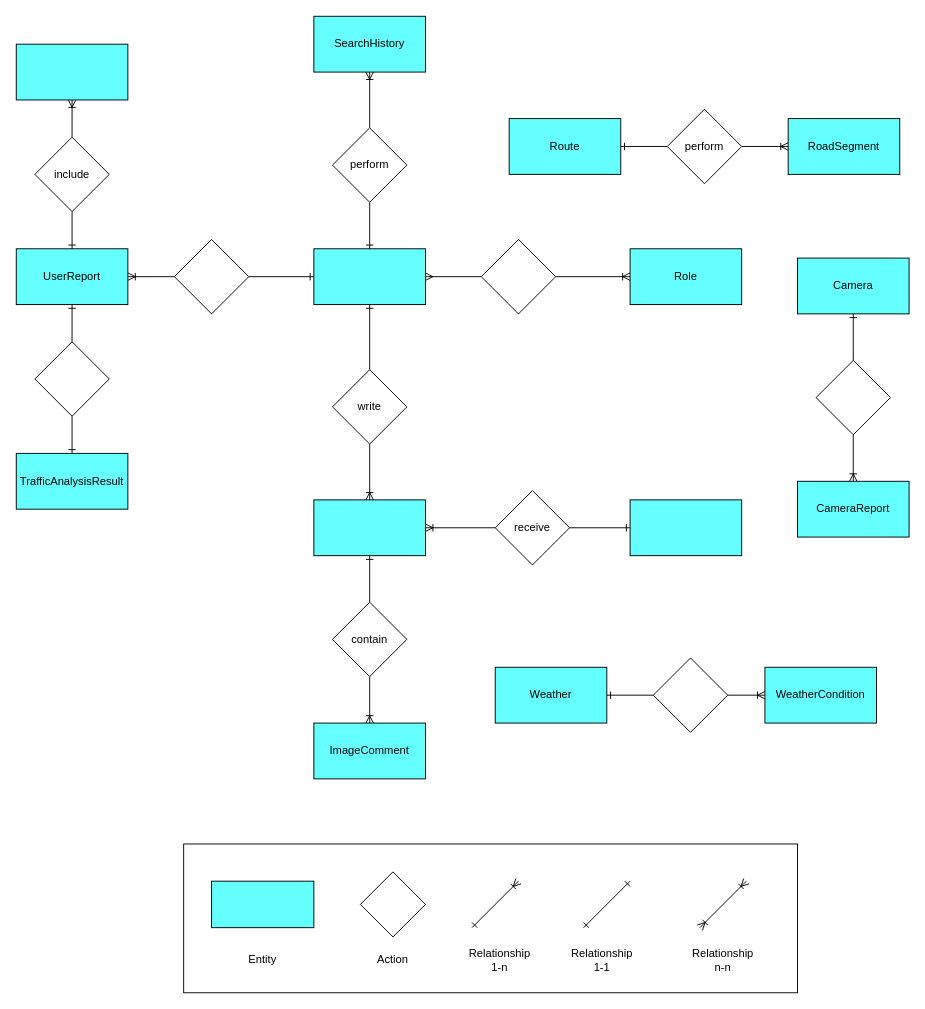
Image size: 925x1009. Some labels were removed from this diagram. Here are the shapes that lost their labels. From the top down, the centre of each, then its label:
At point (71, 71): "ImageUserReport".
At point (211, 276): "submit".
At point (369, 276): "User".
At point (518, 276): "have".
At point (71, 378): "generate".
At point (852, 397): "record".
At point (369, 527): "Comment".
At point (685, 527): "Place".
At point (690, 694): "has".
